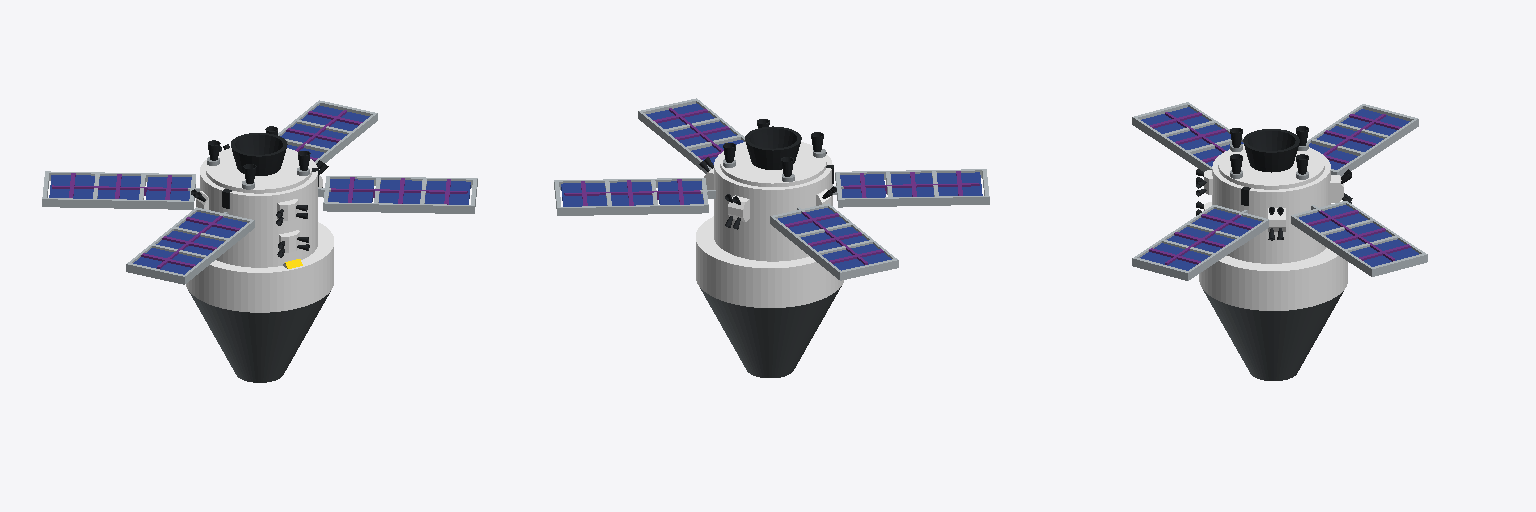
The model's file is tinker.obj.
The picture shows the model from 3 angles: view 1: azimuth 30°, elevation 25°; view 2: azimuth 150°, elevation 25°; view 3: azimuth 270°, elevation 25°; orthographic projection.
Visible parts, largest first — view 1: obj_0; view 2: obj_0; view 3: obj_0.
Part boxes in pixels (x1,y1,x2,y2): obj_0: (42, 100, 477, 382); obj_0: (554, 98, 989, 377); obj_0: (1132, 102, 1427, 380).
Bounding box in the file's own units: 58.15 × 36.29 × 42.3.